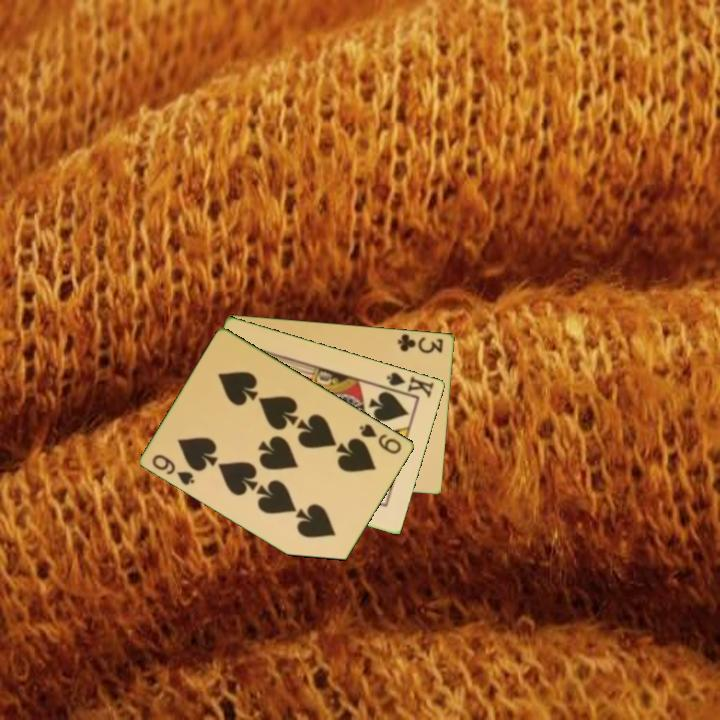3c: (394, 330, 446, 356)
9s: (356, 420, 405, 457), (149, 451, 198, 488)
Ks: (383, 368, 437, 400)
